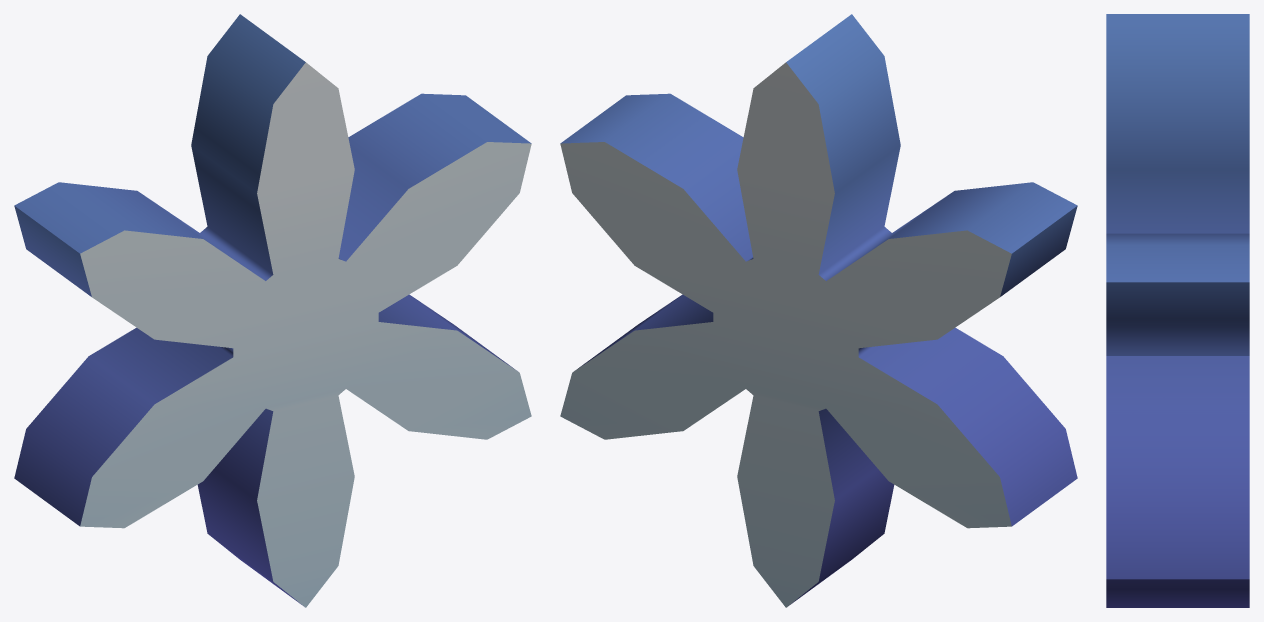
The model's file is snowflake-c.glb.
3 renders of one model, left to right at view 1: azimuth 30°, elevation 25°; view 2: azimuth 150°, elevation 25°; view 3: azimuth 270°, elevation 25°, orthographic. The views are drawn at different scales.
Parts seen in each view (by area): view 1: snowflake-c; view 2: snowflake-c; view 3: snowflake-c.
Part boxes in pixels (<box>): snowflake-c: <box>14,14,531,607</box>; snowflake-c: <box>560,14,1077,607</box>; snowflake-c: <box>1106,14,1249,607</box>.
Bounding box in the file's own units: 0.3464 × 0.4 × 0.0875.
